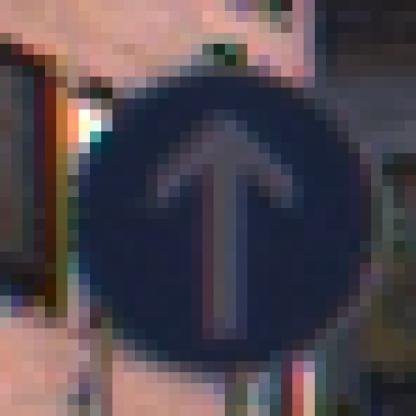AheadOnly: (57, 56, 361, 362)
